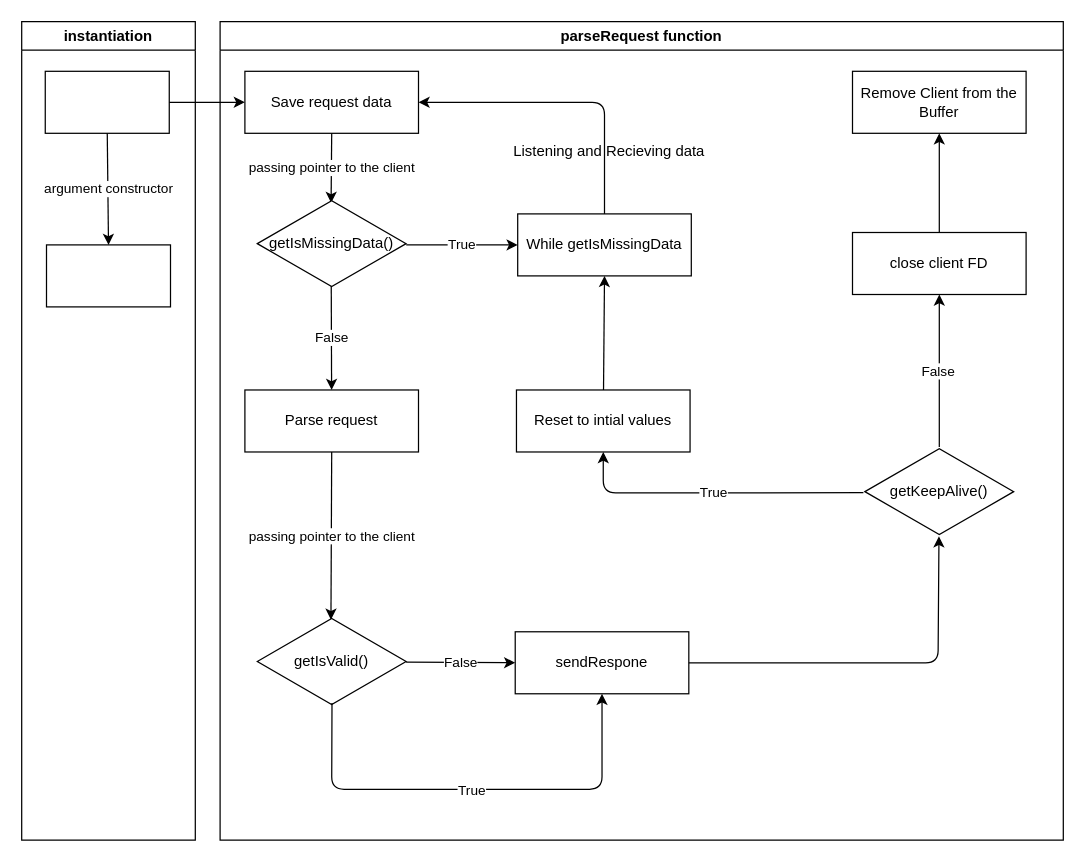
Some shapes in this 1085 by 862 pixel diagram are drawn without their labels. The centre of each missing label's shape, as x and y in pixels:
"Request" belongs at (106,101).
"Set falgs isMissingData, isValid" belongs at (107,275).
